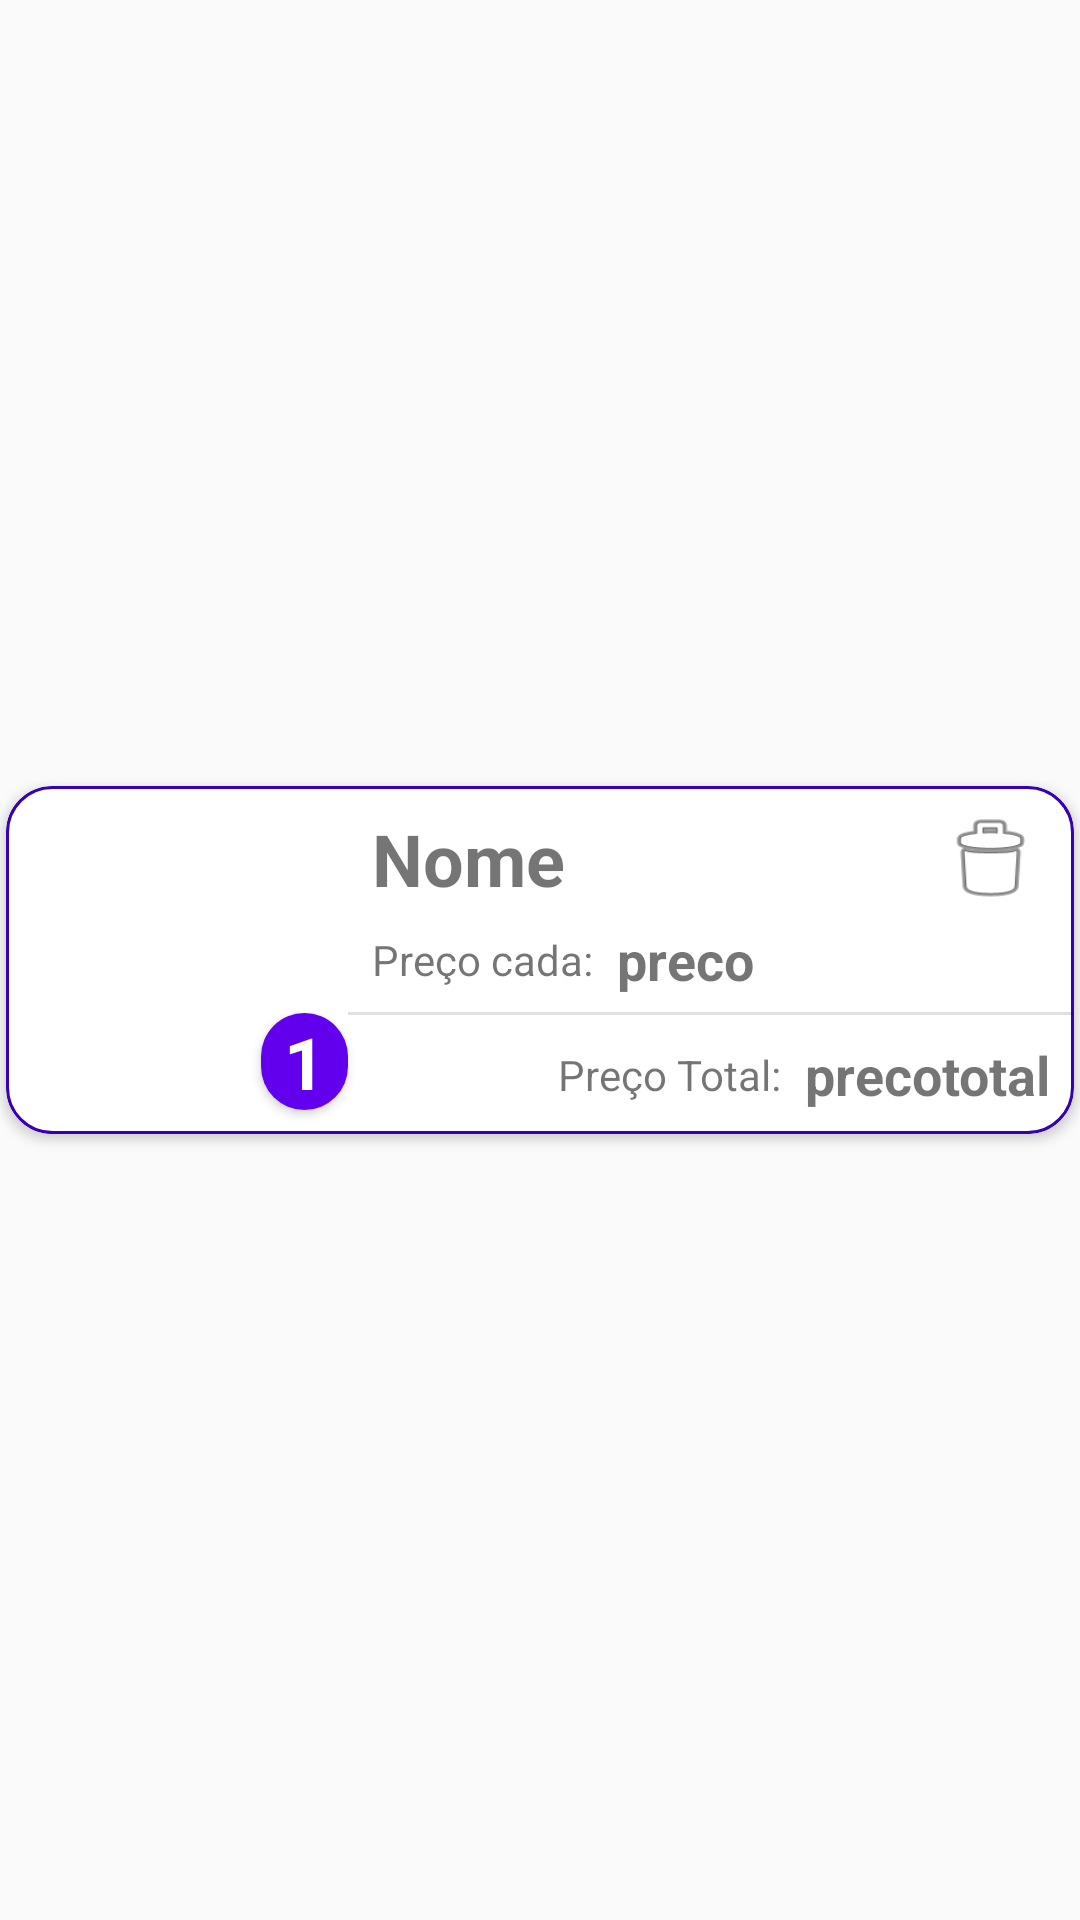

Named icons in this screenshot (1080px x 1920px) and their bounding boxes, (x1, y1, x2, y2):
delete: (957, 819, 1025, 897)
